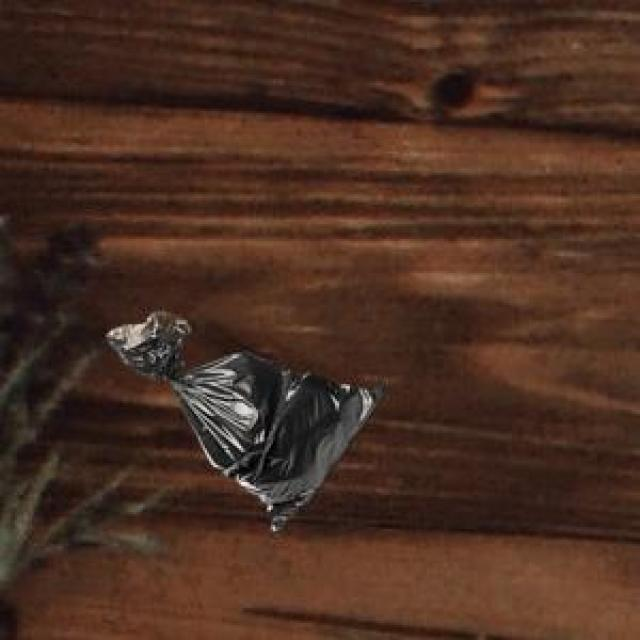waste: (108, 311, 381, 531)
